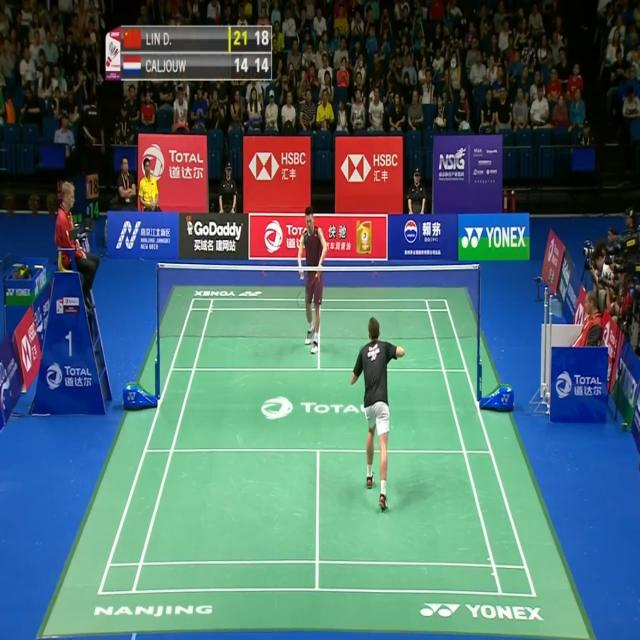Player1: (346, 302, 410, 529)
Player2: (294, 193, 334, 357)
